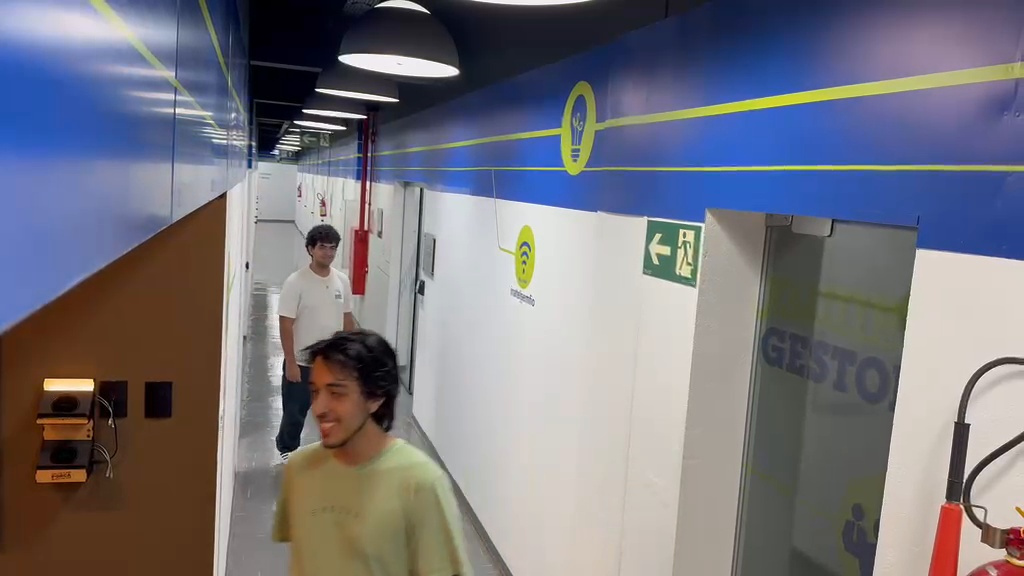person: (273, 330, 473, 572), (277, 223, 359, 456)
